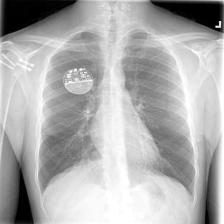normal: (33, 24, 200, 199)
